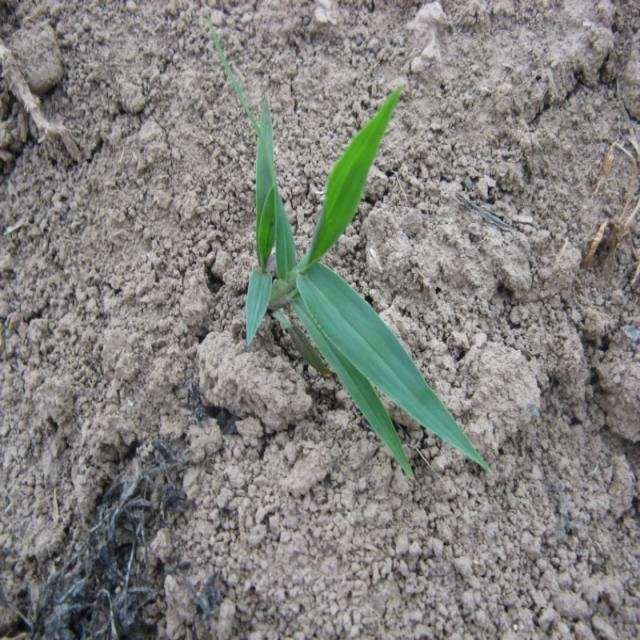bg: (246, 75, 493, 475)
